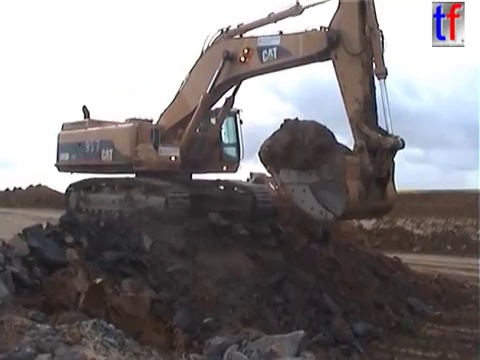excavator: (50, 1, 410, 232)
